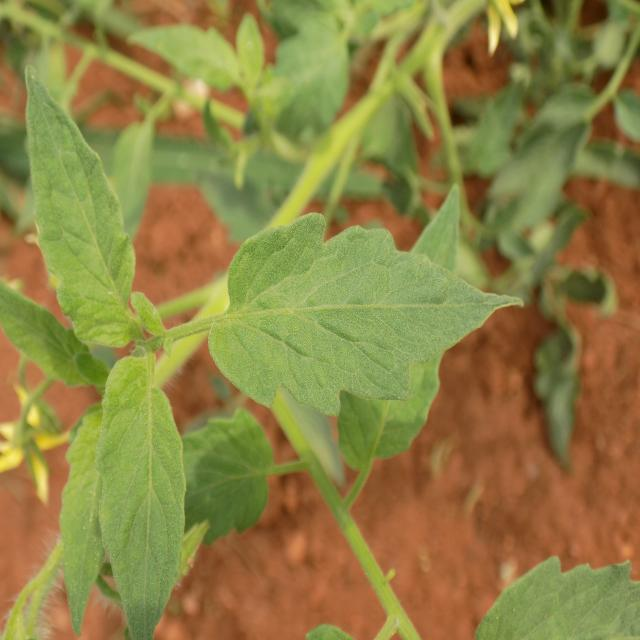tomato_healthy: (208, 213, 519, 415), (333, 175, 480, 486), (24, 66, 140, 346), (95, 352, 185, 640), (114, 406, 284, 555), (42, 364, 124, 640), (476, 557, 640, 640)
